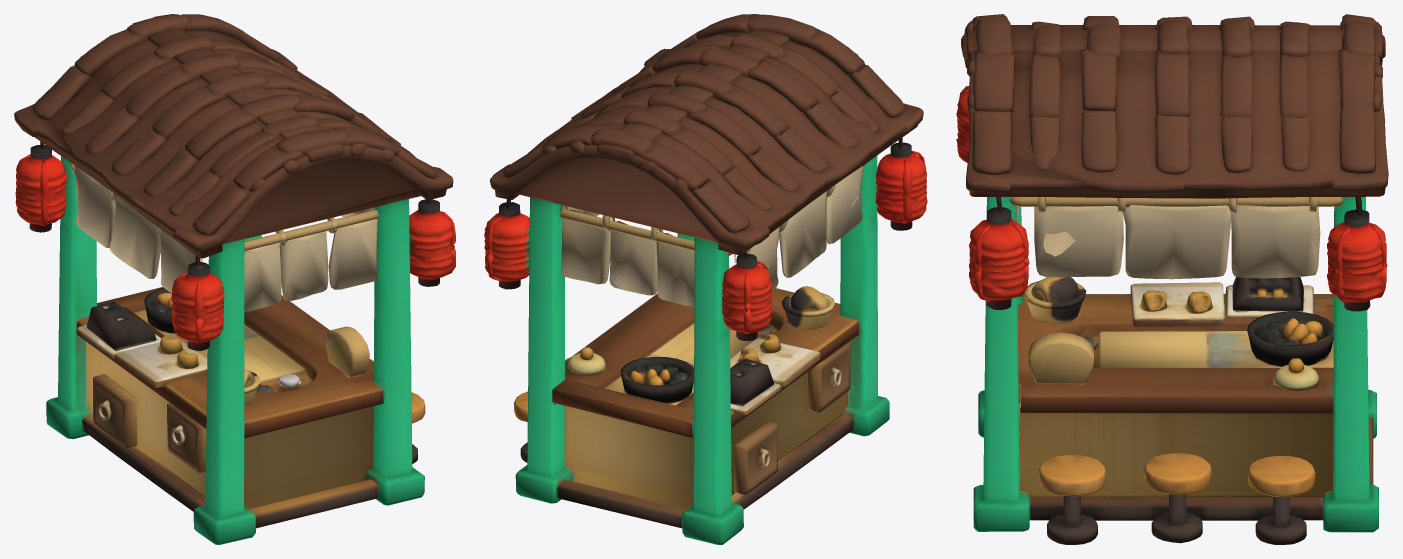
Rendered from ramen.glb.
3 renders of one model, left to right at view 1: azimuth 30°, elevation 25°; view 2: azimuth 150°, elevation 25°; view 3: azimuth 270°, elevation 25°, orthographic. The views are drawn at different scales.
Parts seen in each view (by area): view 1: tripo_node_e6b44d14-1455-45a7-960b-bfce30e5f5cf; view 2: tripo_node_e6b44d14-1455-45a7-960b-bfce30e5f5cf; view 3: tripo_node_e6b44d14-1455-45a7-960b-bfce30e5f5cf.
Part boxes in pixels (<box>): tripo_node_e6b44d14-1455-45a7-960b-bfce30e5f5cf: <box>14,14,455,544</box>; tripo_node_e6b44d14-1455-45a7-960b-bfce30e5f5cf: <box>484,14,927,544</box>; tripo_node_e6b44d14-1455-45a7-960b-bfce30e5f5cf: <box>956,14,1388,544</box>.
Size of the model in its own units: 0.7676 by 0.998 by 0.877.
1 material, 1 textured.
